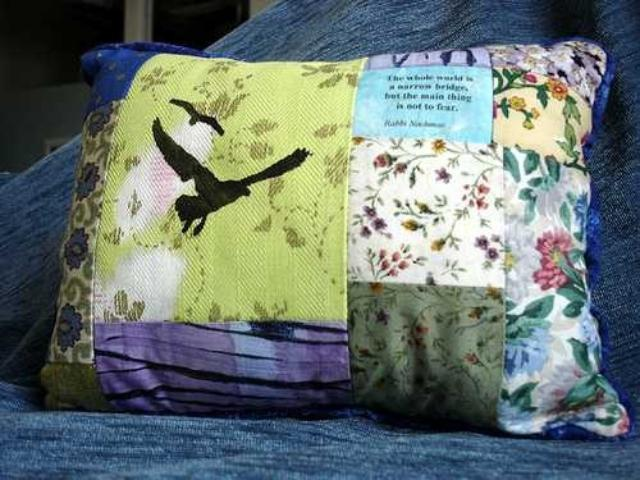pillow: (39, 34, 632, 438)
